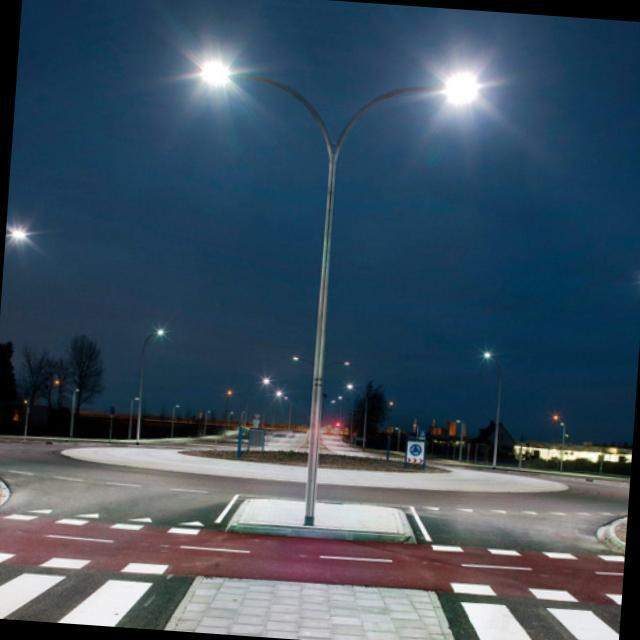on: (169, 32, 272, 126), (417, 48, 513, 141), (247, 354, 309, 429), (9, 195, 45, 272), (342, 359, 374, 409)
